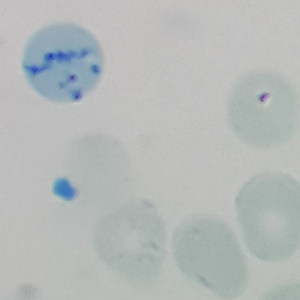aggregate reticulocyte: (19, 20, 108, 105)
erythrocyte: (90, 196, 170, 287), (169, 213, 252, 300), (46, 130, 136, 210), (224, 67, 300, 153), (233, 170, 300, 265)
